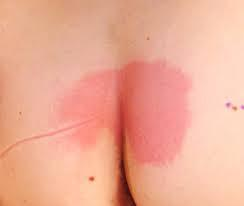Stage1: (39, 60, 198, 169)
